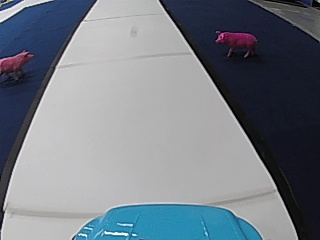pig: (210, 27, 258, 58), (0, 48, 32, 81)
